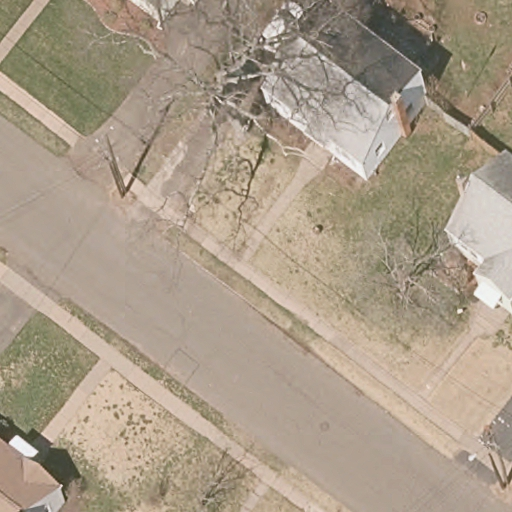DT: (93, 125, 128, 198), (468, 428, 502, 477)
